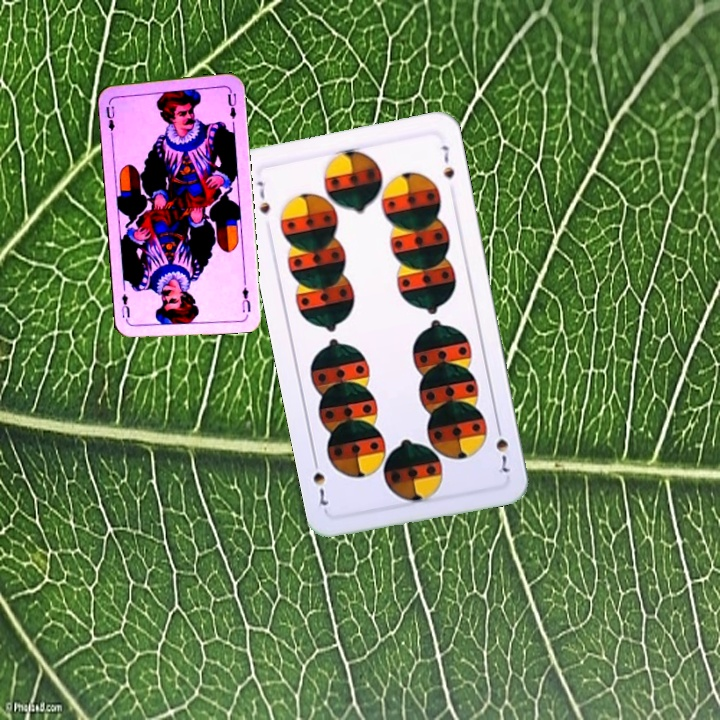EU: (238, 283, 254, 315), (101, 102, 117, 133)
S7: (491, 419, 511, 475), (252, 177, 273, 216)
